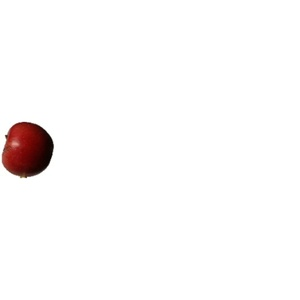maçã braeburn: (3, 119, 55, 180)
